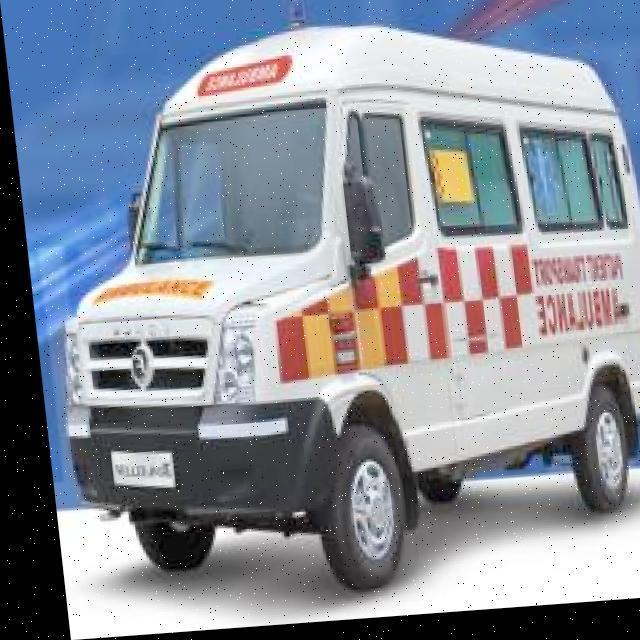Ambulance: (0, 0, 640, 632), (44, 463, 640, 637)
